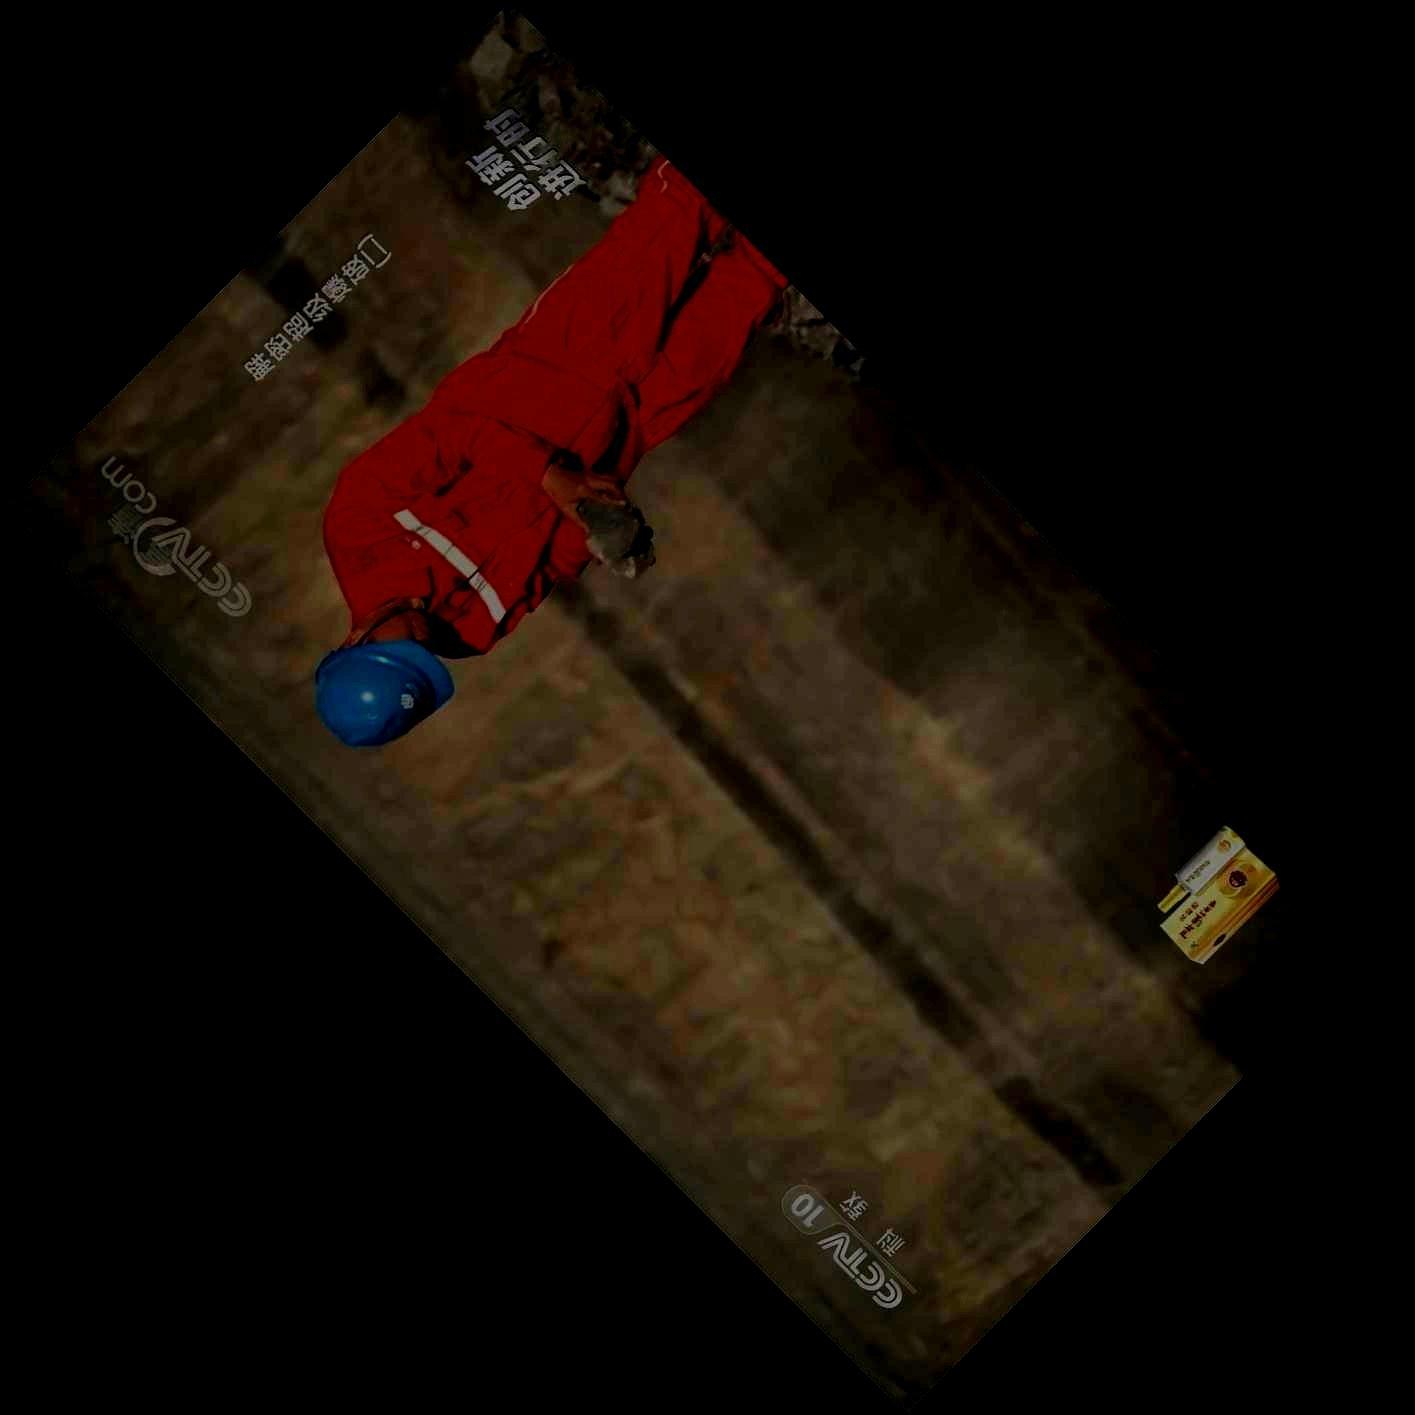helmet: (312, 608, 456, 752)
